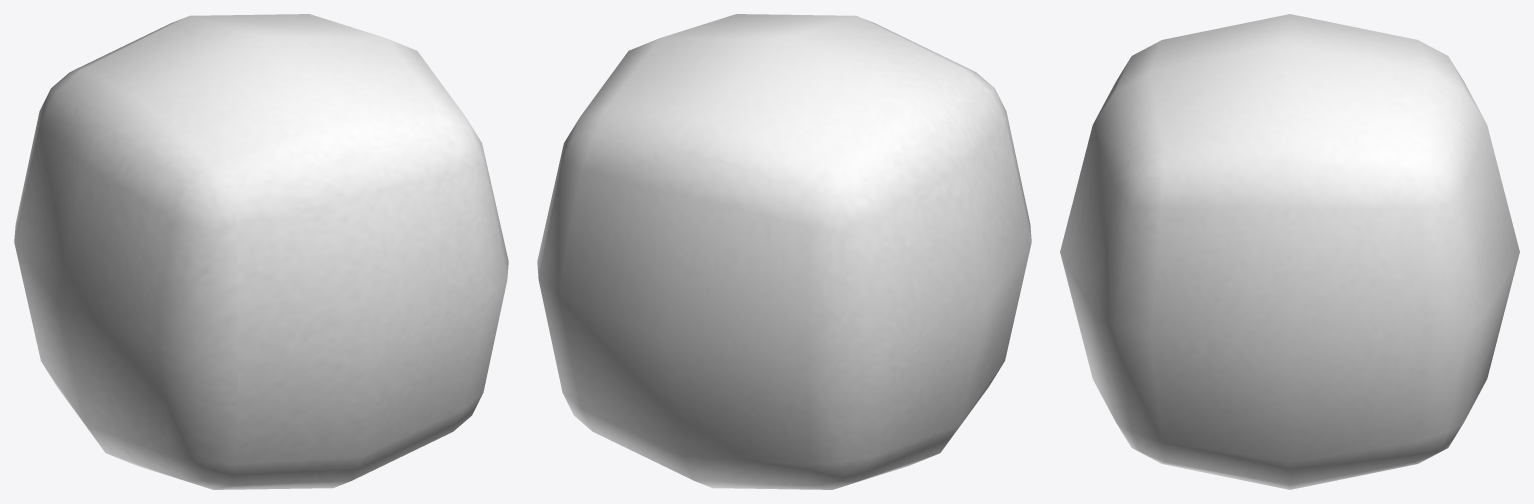
The model's file is rock_boulder_a_00.obj.
3 views of the same model, side by side, from view 1: azimuth 30°, elevation 25°; view 2: azimuth 150°, elevation 25°; view 3: azimuth 270°, elevation 25° (orthographic). The views are drawn at different scales.
Bounding box in the file's own units: 1.3 × 1.3 × 1.3.
